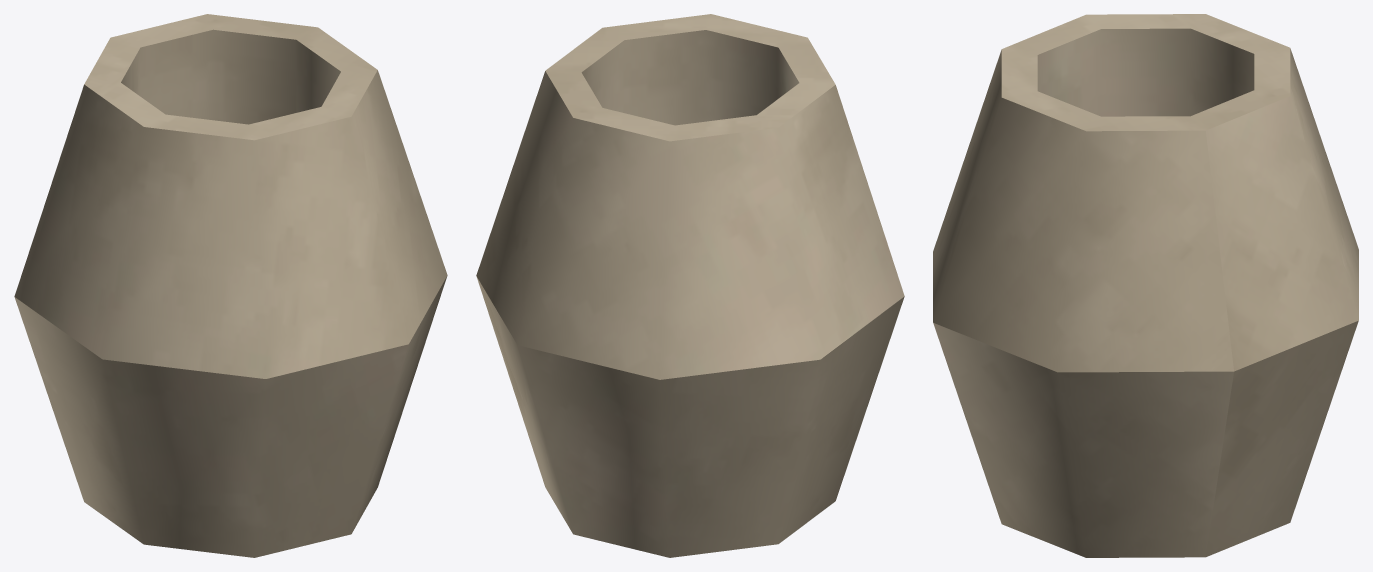
File: pot.glb
3 renders of one model, left to right at view 1: azimuth 30°, elevation 25°; view 2: azimuth 150°, elevation 25°; view 3: azimuth 270°, elevation 25°, orthographic. The views are drawn at different scales.
Visible parts, largest first — view 1: Pot; view 2: Pot; view 3: Pot.
Part boxes in pixels (x1,y1,x2,y2): Pot: [14, 14, 447, 557]; Pot: [476, 14, 904, 557]; Pot: [933, 14, 1358, 557].
Size of the model in its own units: 0.4122 by 0.4743 by 0.4288.
Materials: 1 (1 with a texture image).
